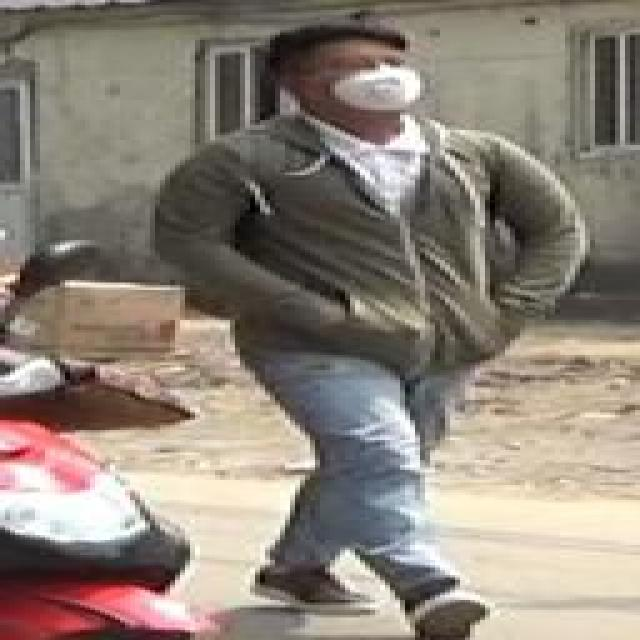adult: (151, 20, 587, 620)
